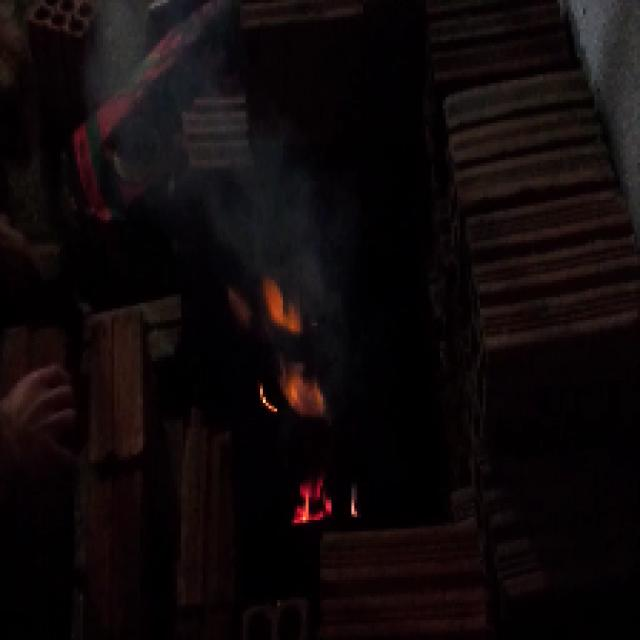smoke: (141, 58, 316, 255)
